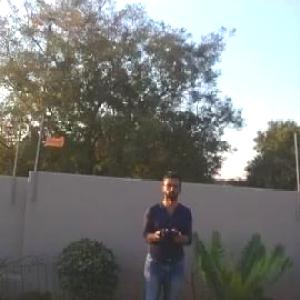follow: (136, 165, 195, 299)
